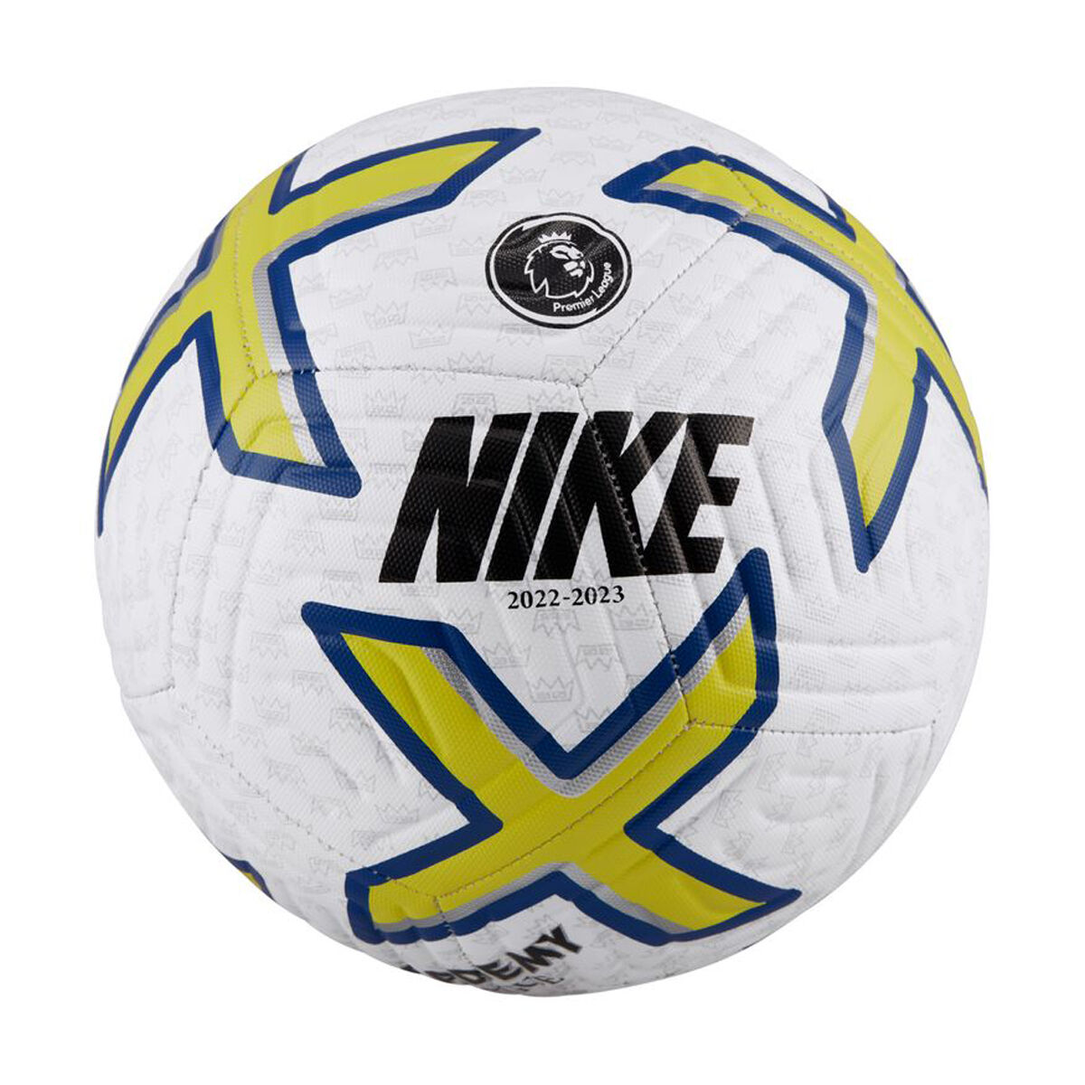sphere: (97, 86, 989, 996)
